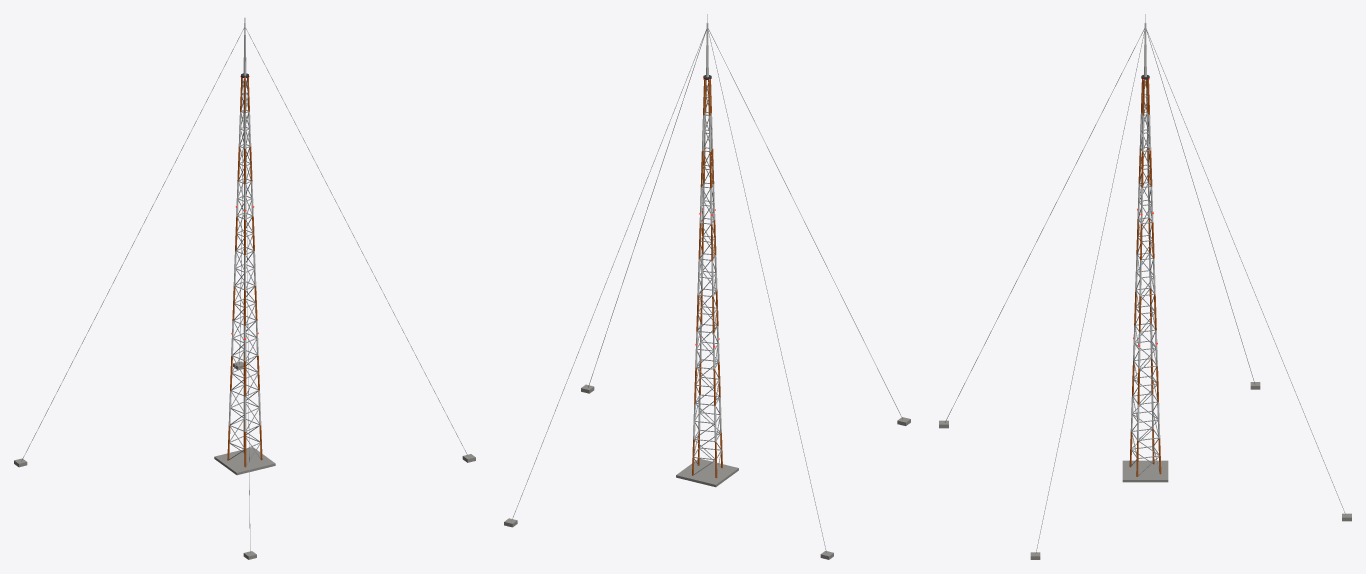
File: EA11_lightning_mast_150m.glb
The picture shows the model from 3 angles, left to right: view 1: azimuth 30°, elevation 25°; view 2: azimuth 150°, elevation 25°; view 3: azimuth 270°, elevation 25°; orthographic projection. The views are drawn at different scales.
Visible parts, largest first — view 1: lattice_girt, foundation; view 2: foundation, lattice_girt; view 3: foundation, lattice_girt.
Boxes of the visible parts, x1,y1,x2,y2 form: lattice_girt: (21,18,468,552); foundation: (14,22,475,559); foundation: (504,22,910,559); lattice_girt: (511,14,902,552); foundation: (939,22,1351,559); lattice_girt: (945,14,1345,553).
Size of the model in its own units: 126 by 154 by 126.
